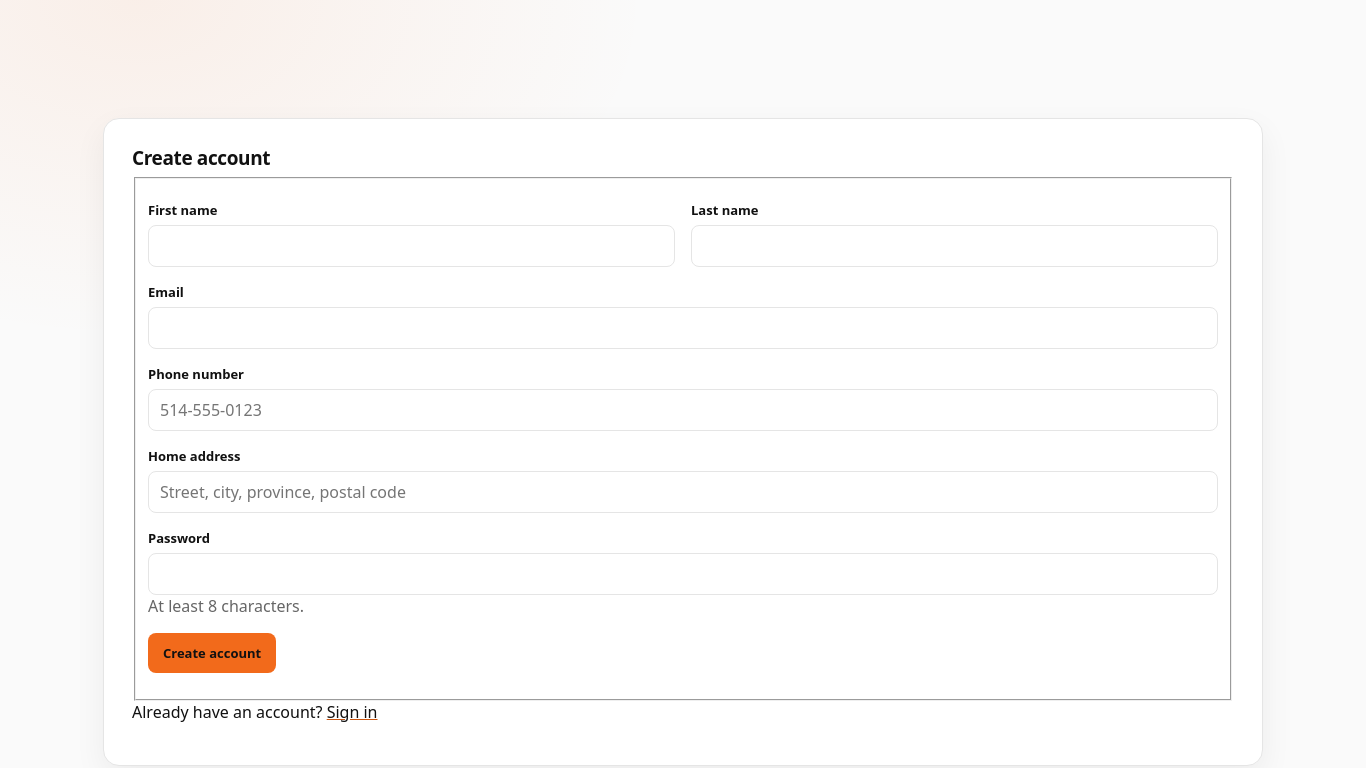
customer pages › creates an account, signs in and shows the assigned customer ID
In the field labelled "First name": [412, 246] box [148,225,675,267], type " Jamie "
In the field labelled "Last name": [954, 246] box [691,225,1218,267], type "Rivera"
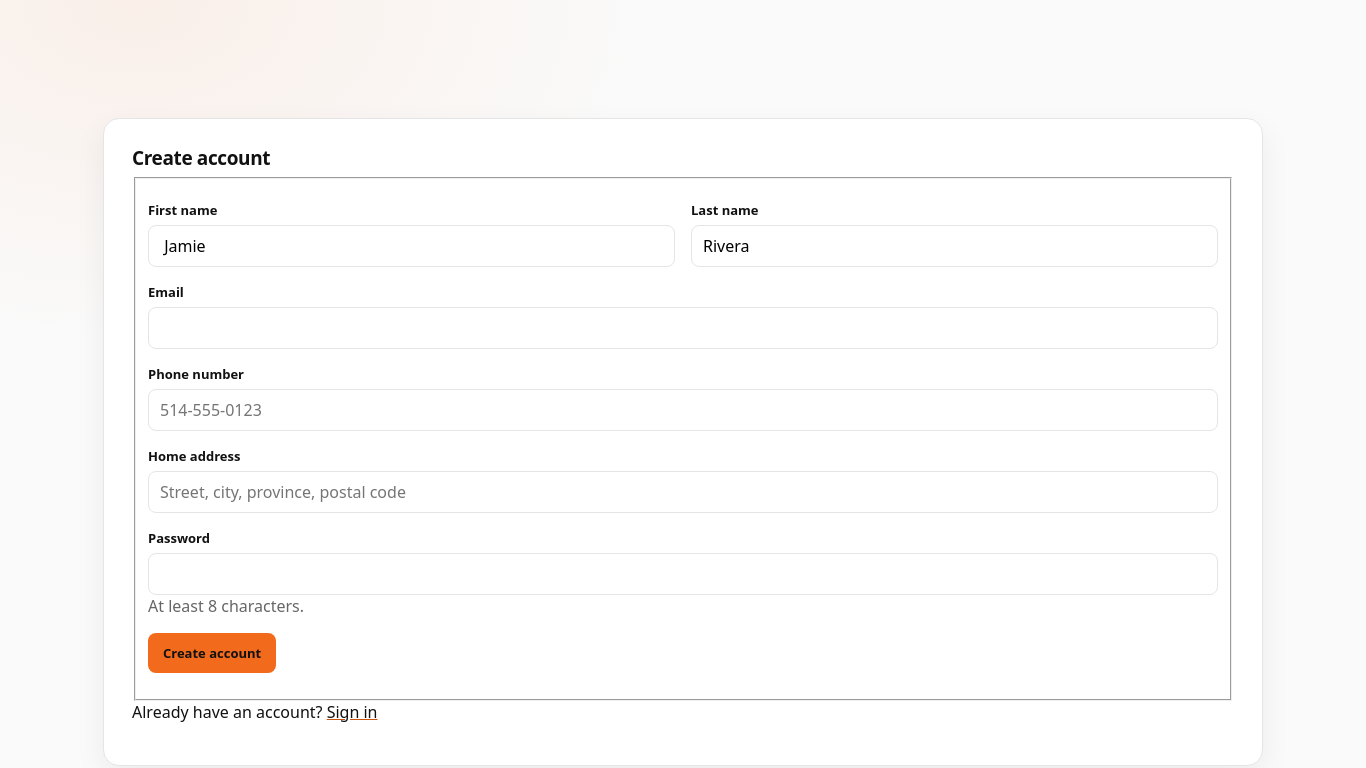
In the field labelled "Email": [683, 328] box [148,307,1218,349], type "jamie@example.com"
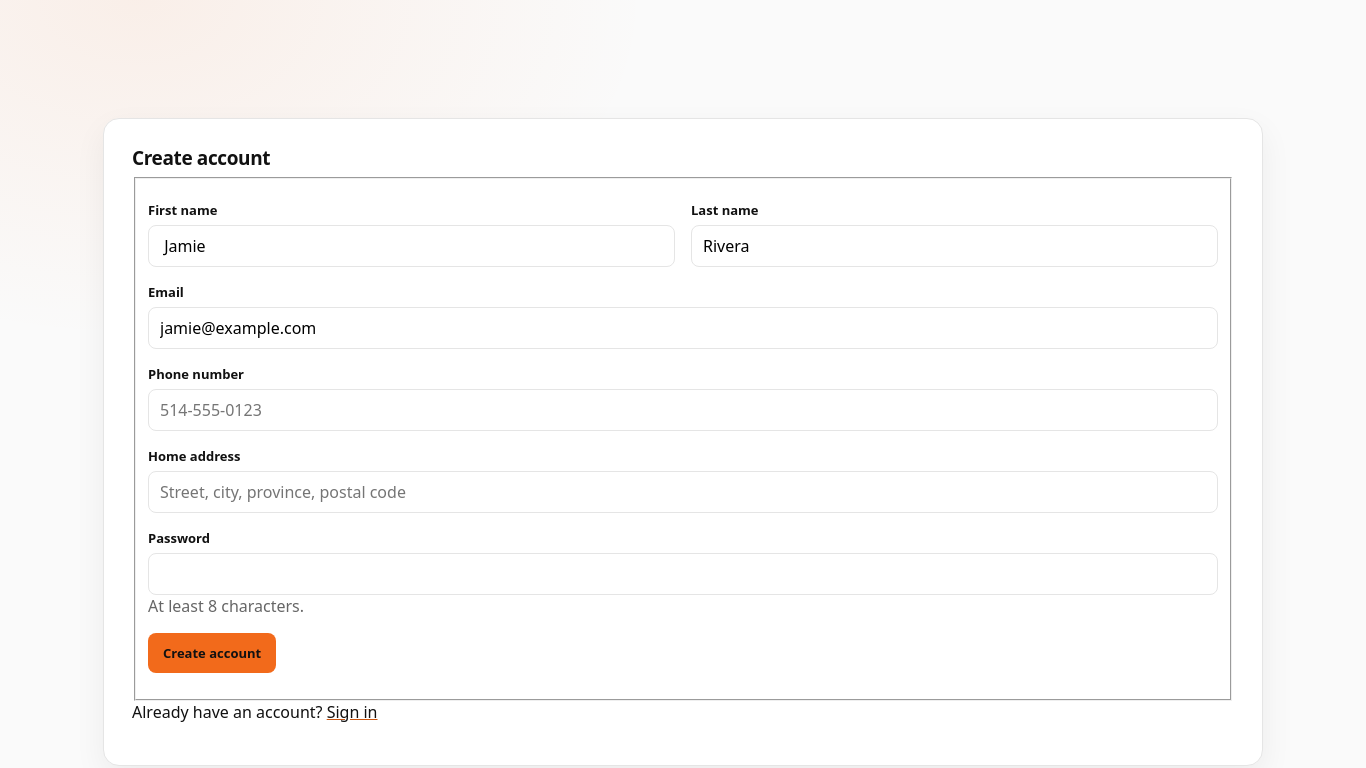
In the field labelled "Phone number": [683, 410] box [148,389,1218,431], type "514-555-0123 "
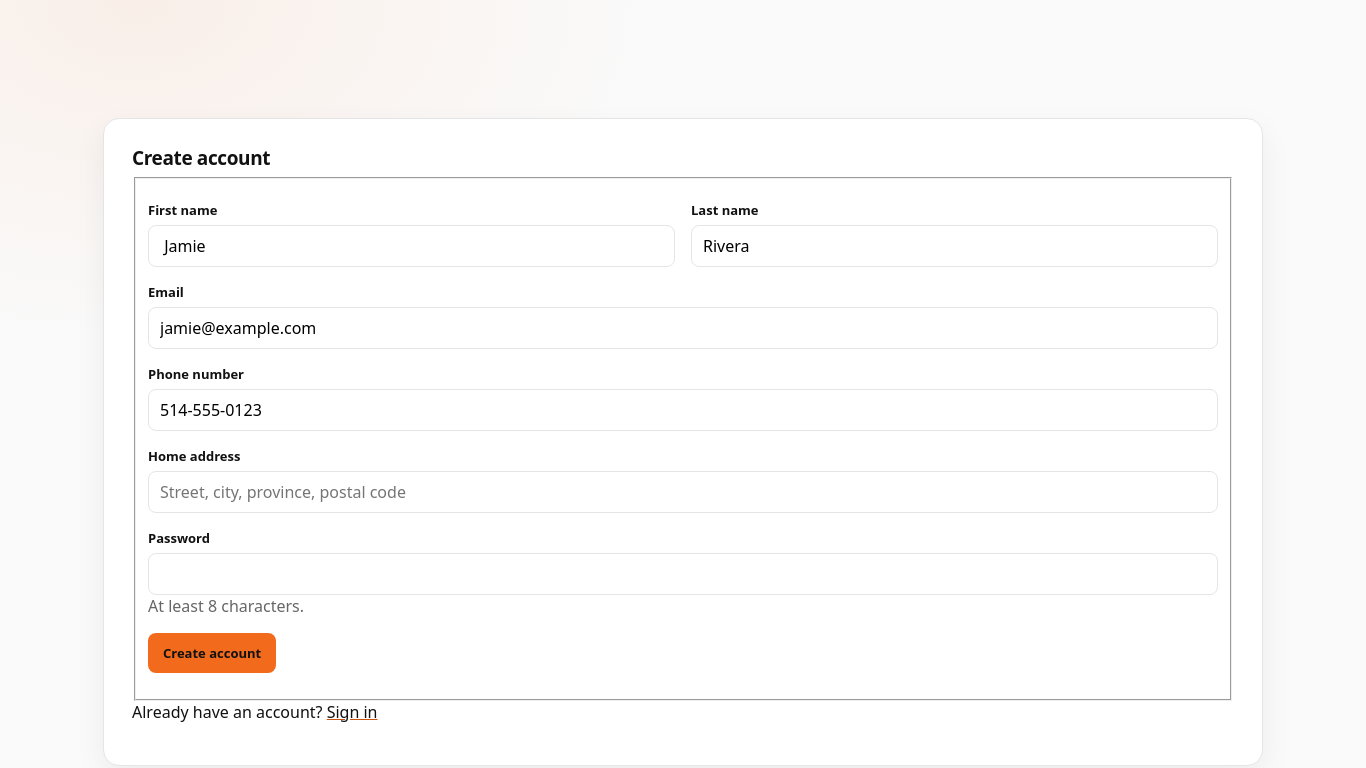
In the field labelled "Home address": [683, 492] box [148,471,1218,513], type "12 Rue Test"
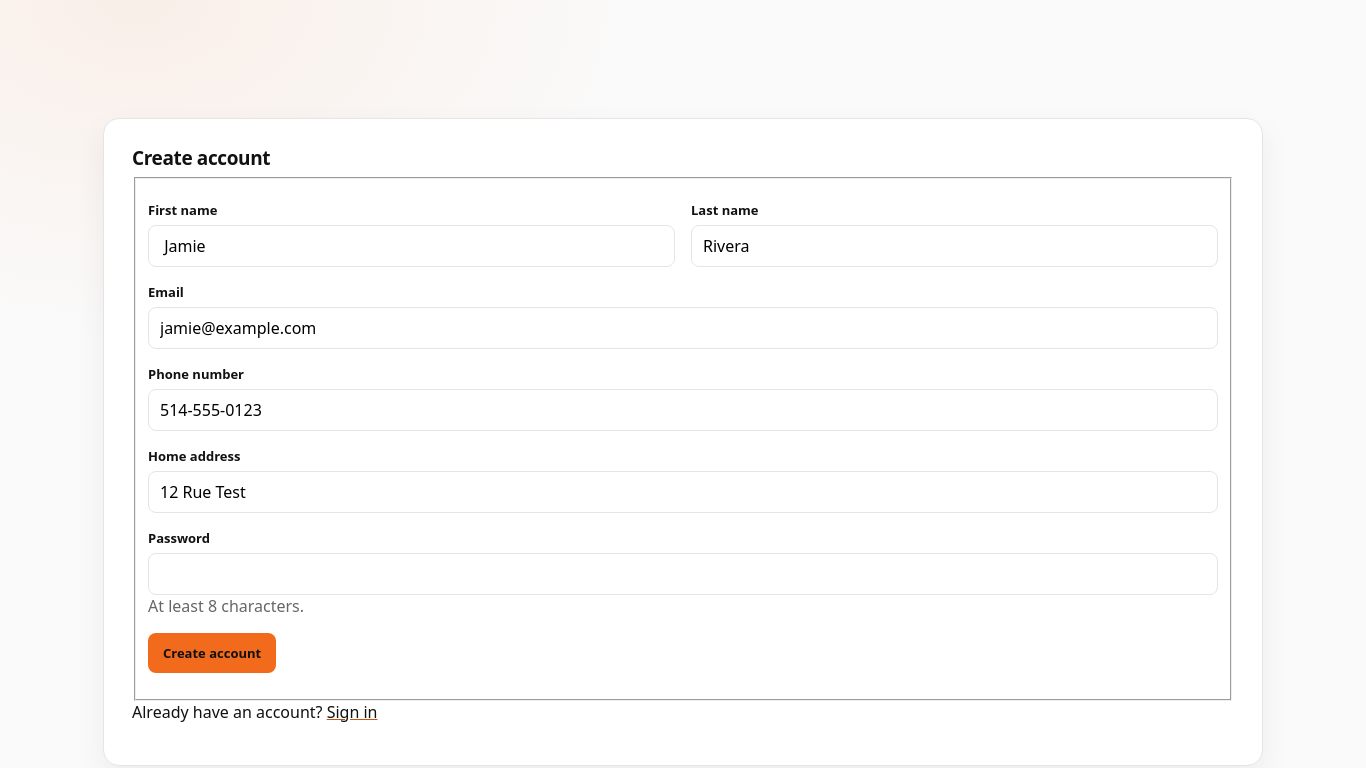
In the password field labelled "Password": [683, 574] box [148,553,1218,595], type "secret-pass"
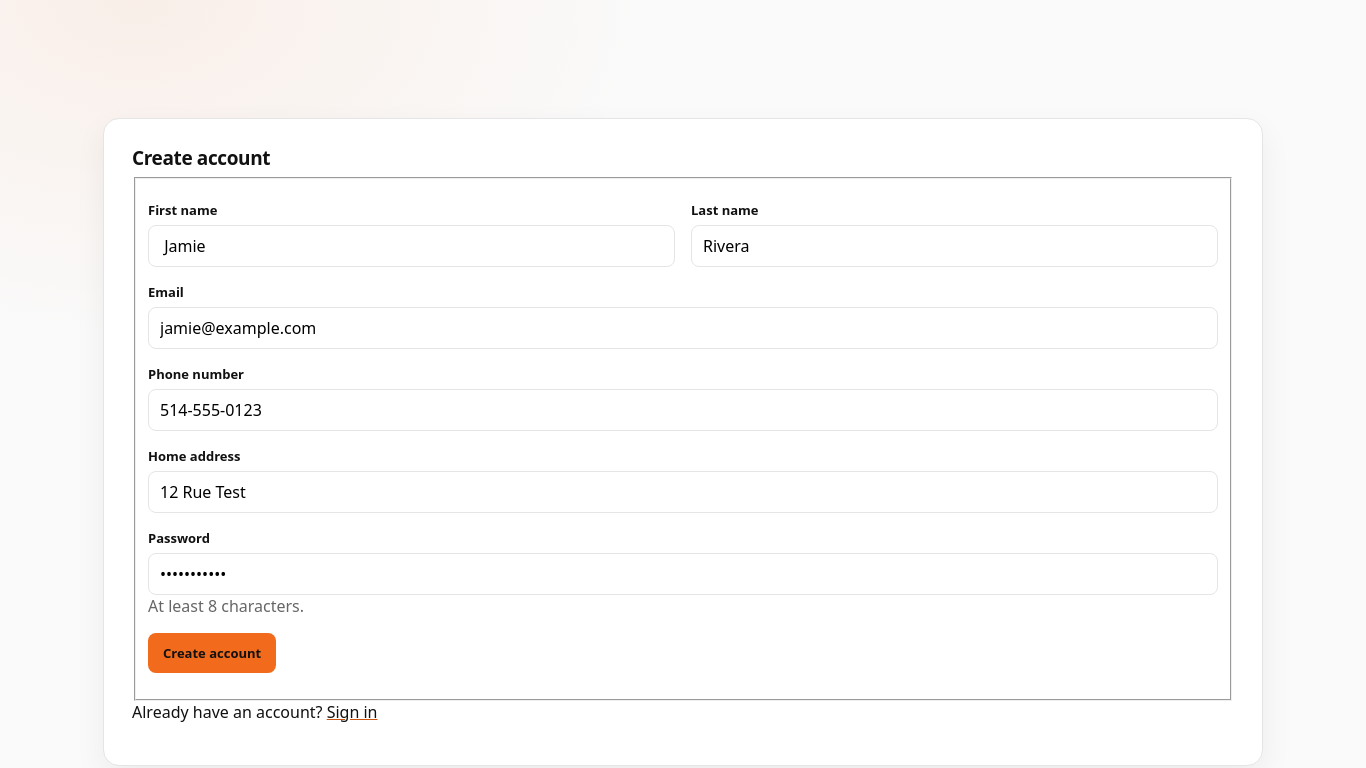
Submit the form named "Create account", box [132,177,1234,701]
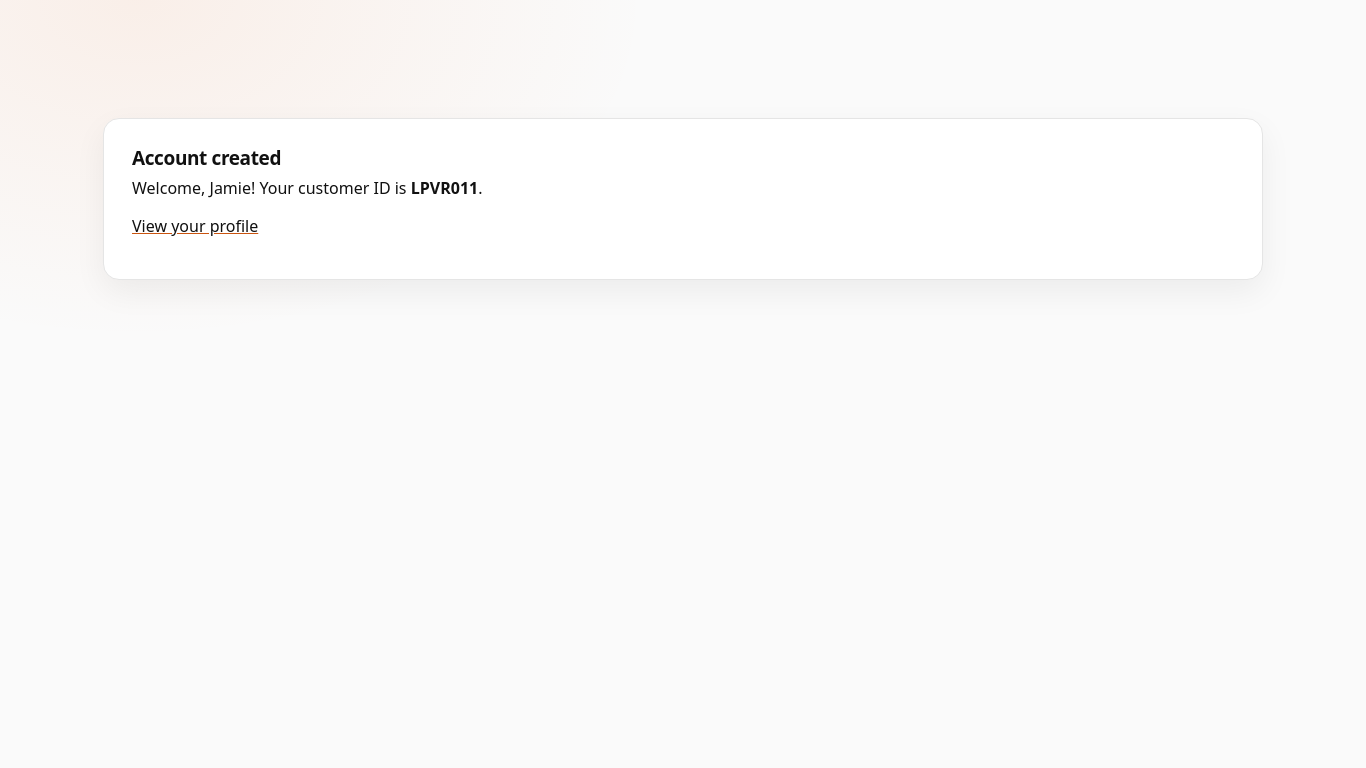
Check: the text "LPVR011" is shown, box [411,177,478,199]
